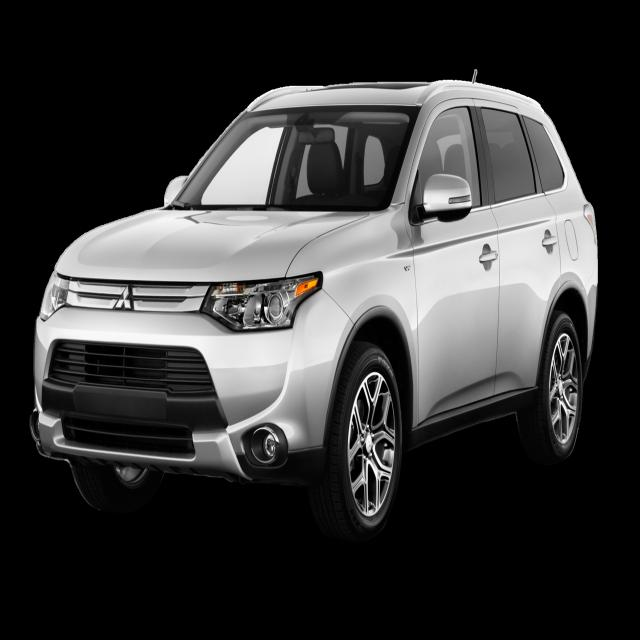light_vehicle: (31, 71, 597, 546)
